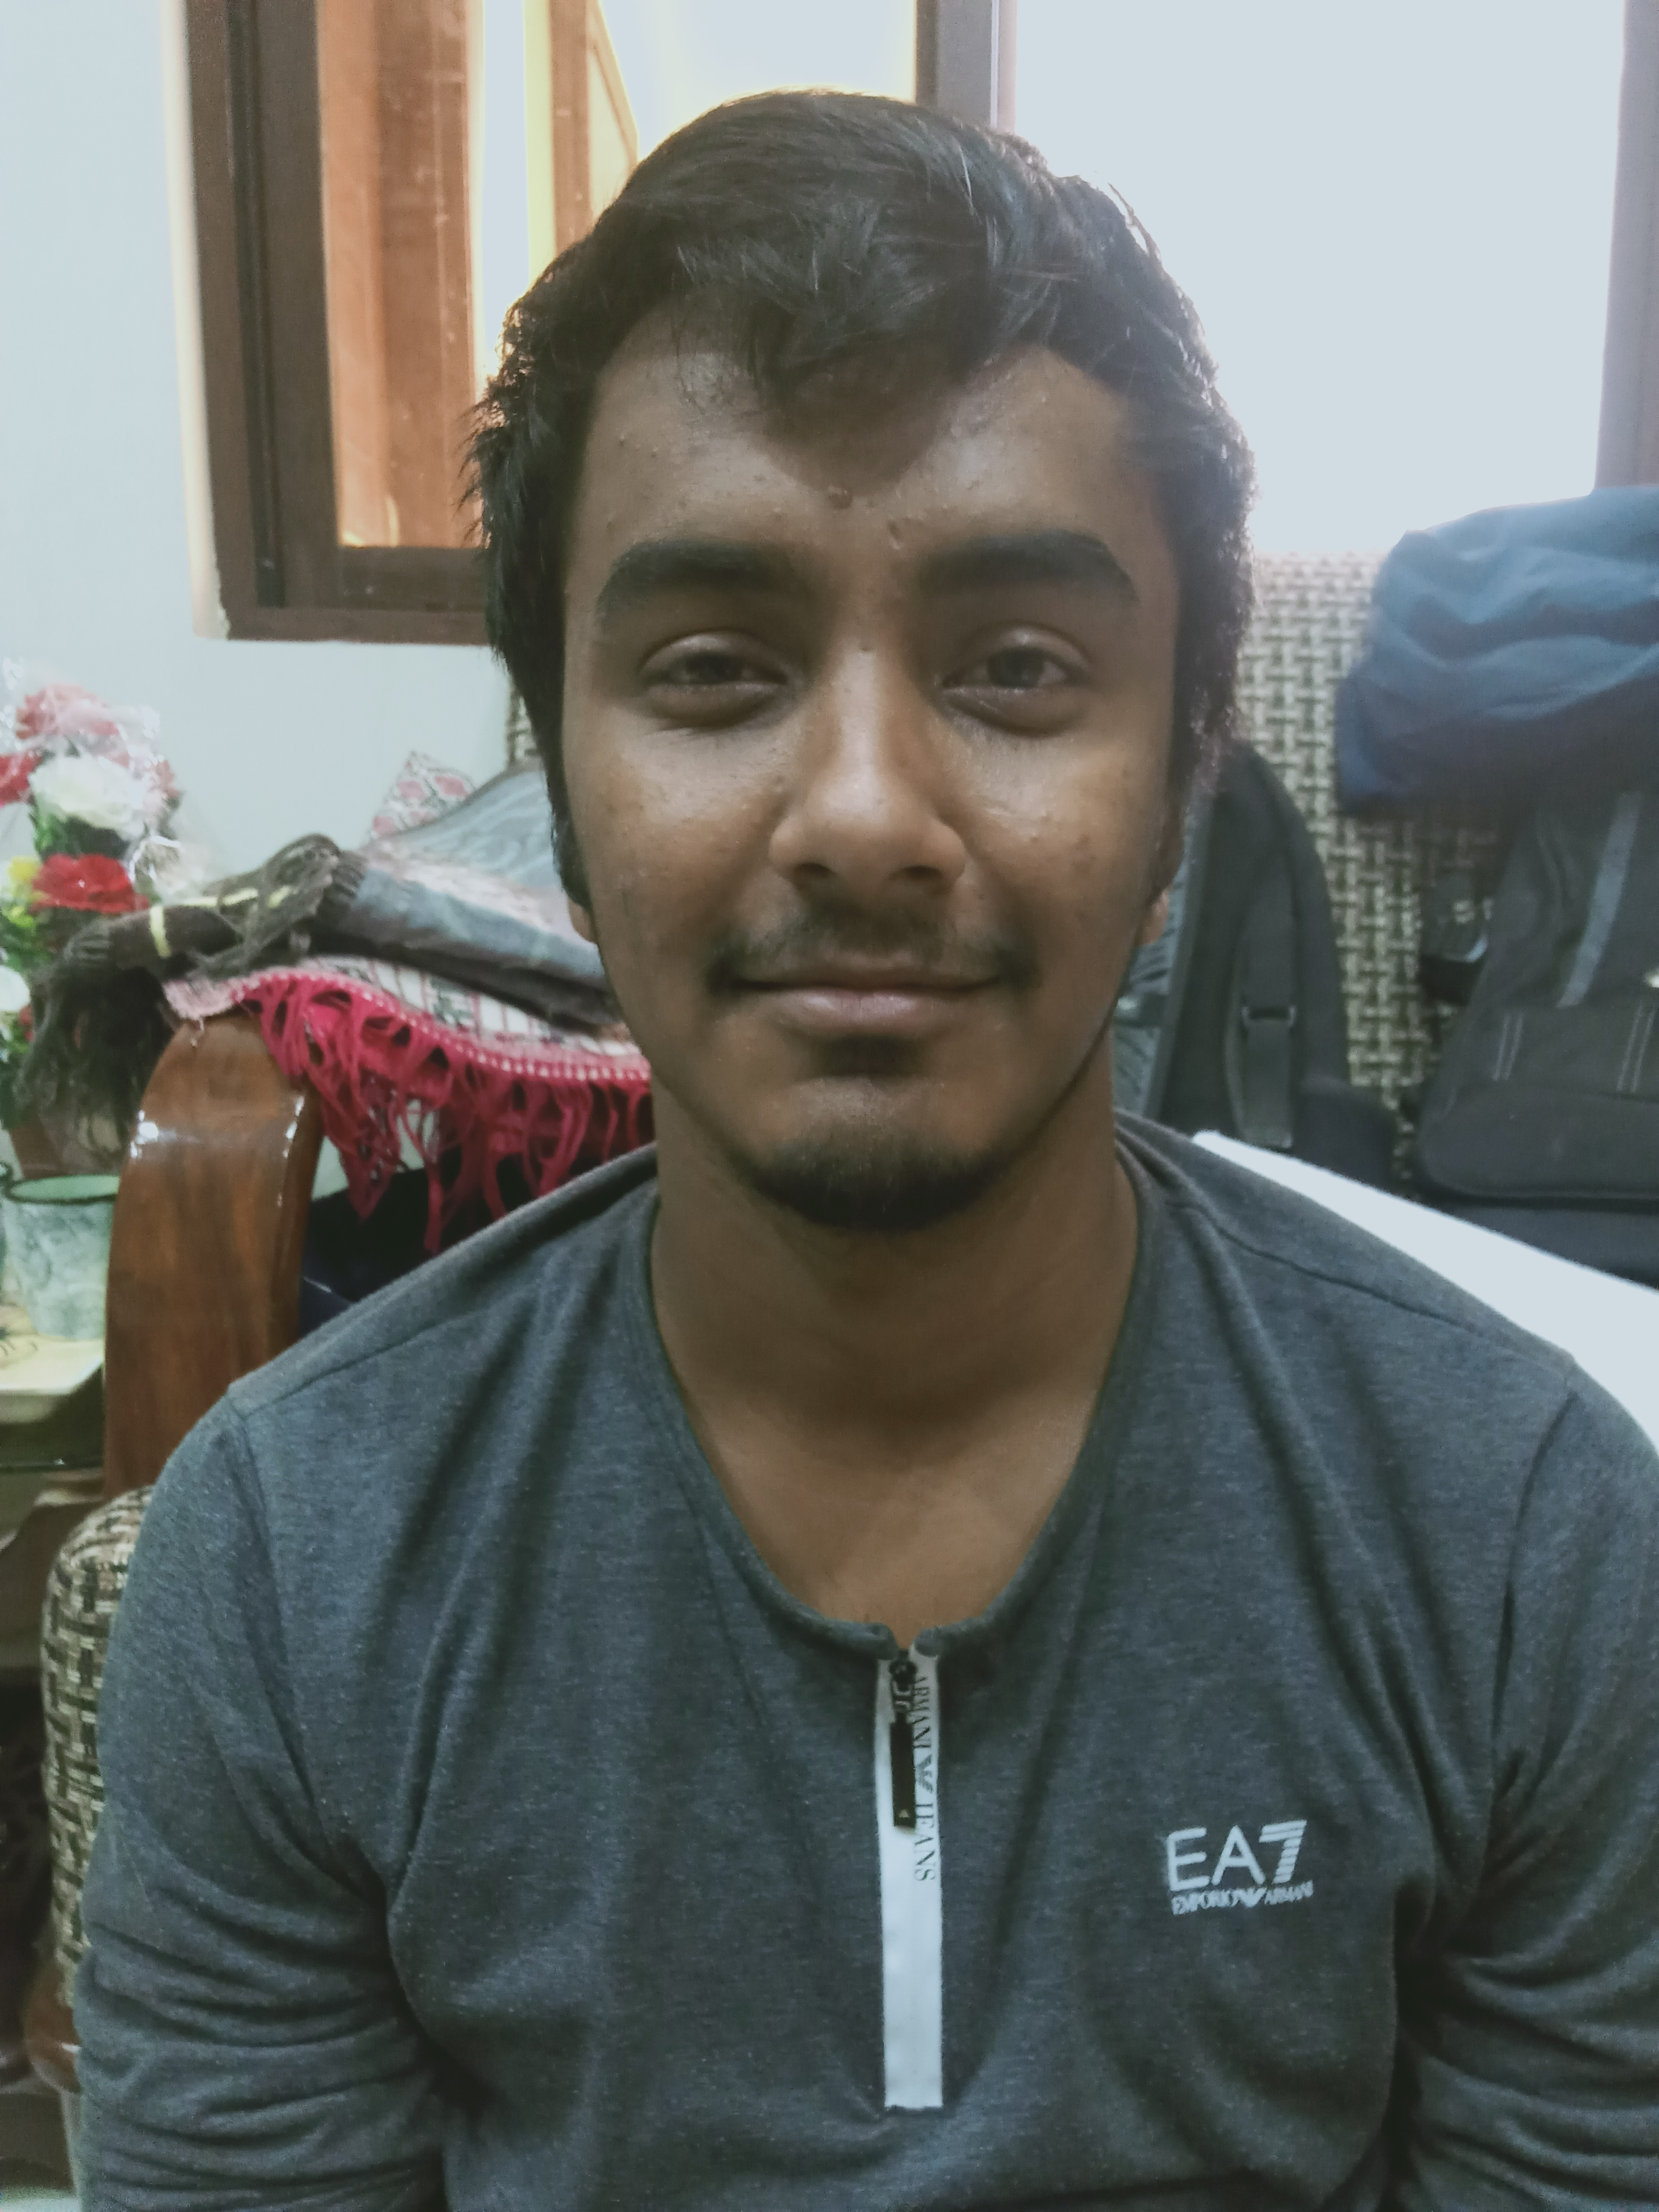NoMask: (582, 496, 1124, 1194)
